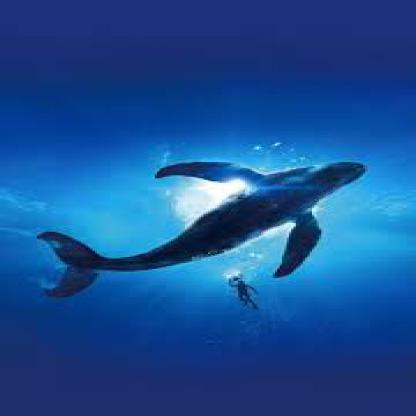blue_whale: (12, 125, 374, 282)
